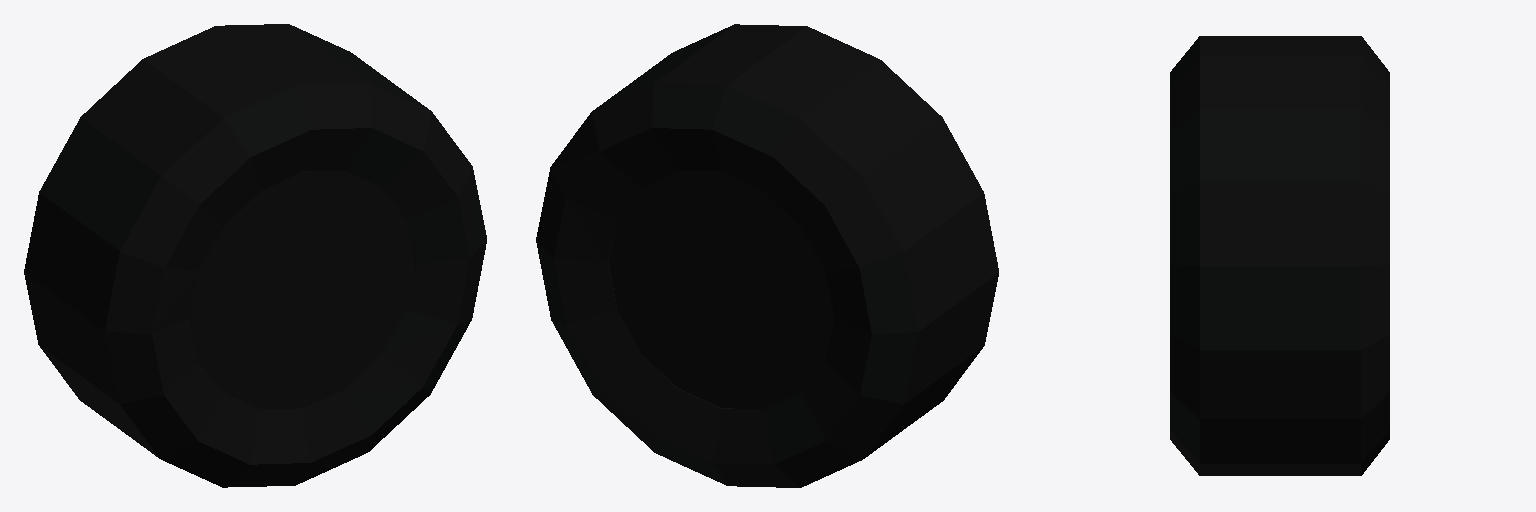
The model's file is whell.obj.
3 views of the same model, side by side, from view 1: azimuth 30°, elevation 25°; view 2: azimuth 150°, elevation 25°; view 3: azimuth 270°, elevation 25° (orthographic).
Size of the model in its own units: 4.02 by 4.02 by 2.